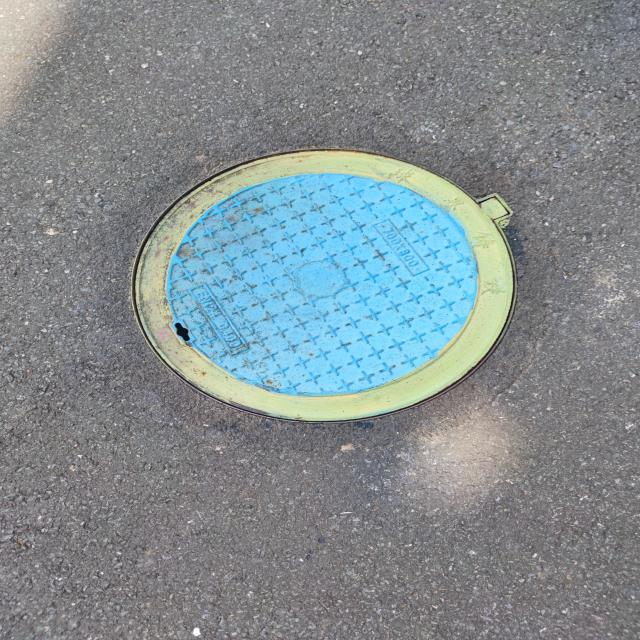Good: (126, 143, 521, 425)
